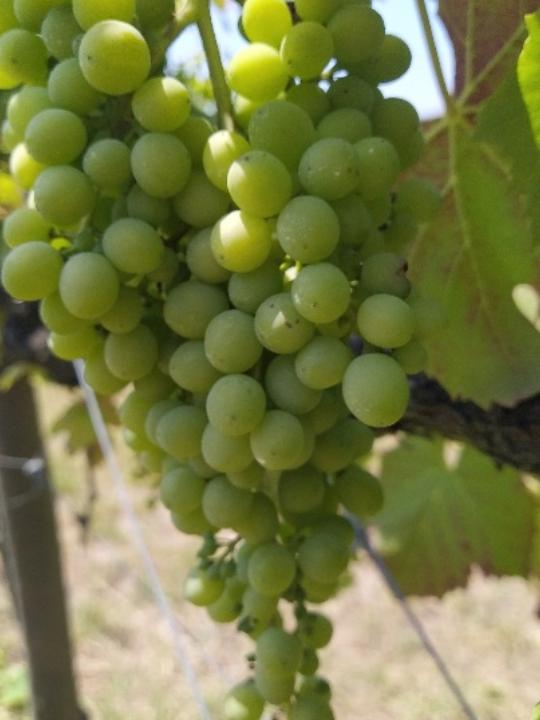grape: (0, 0, 424, 720)
